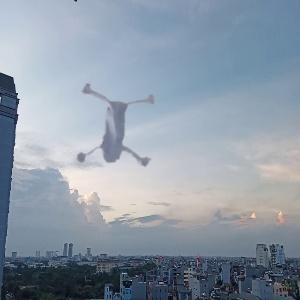drone: (35, 56, 186, 207)
